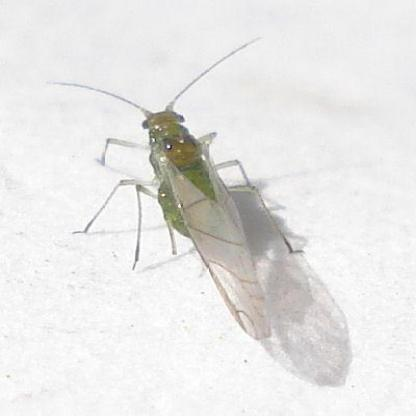aphid: (33, 35, 361, 379)
